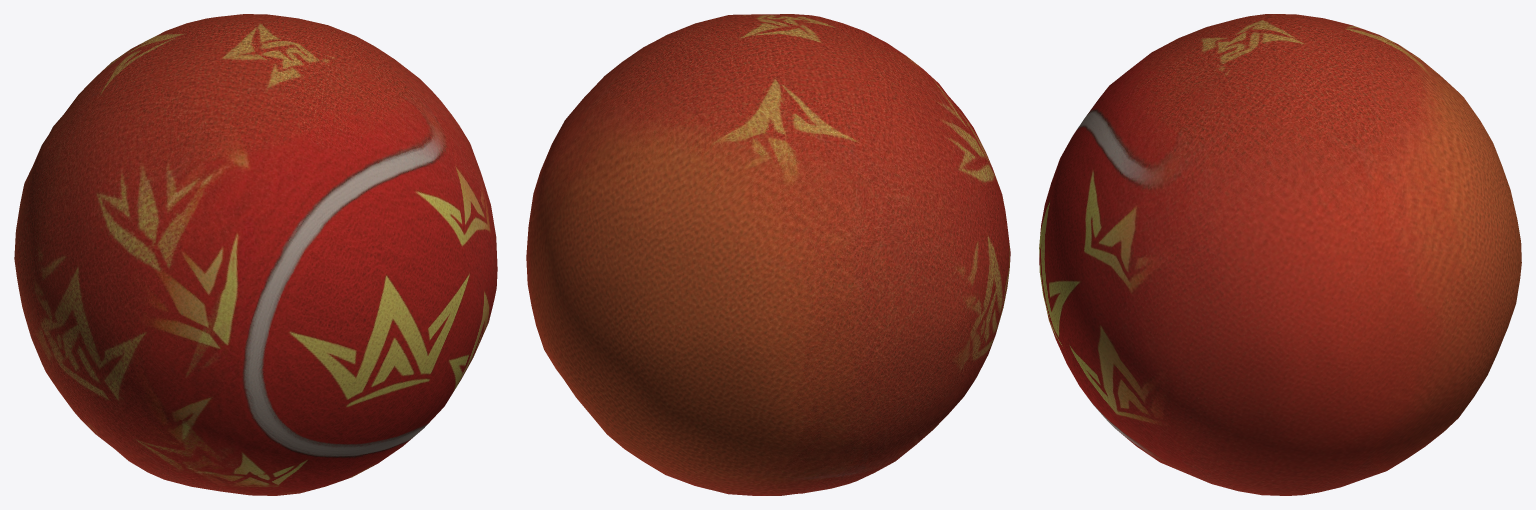
The model's file is Meshy_AI_Royal_Rally_1024220842_texture.glb.
3 views of the same model, side by side, from view 1: azimuth 30°, elevation 25°; view 2: azimuth 150°, elevation 25°; view 3: azimuth 270°, elevation 25° (orthographic).
Bounding box in the file's own units: 0.9507 × 0.9526 × 0.9458.
1 material, 1 textured.
